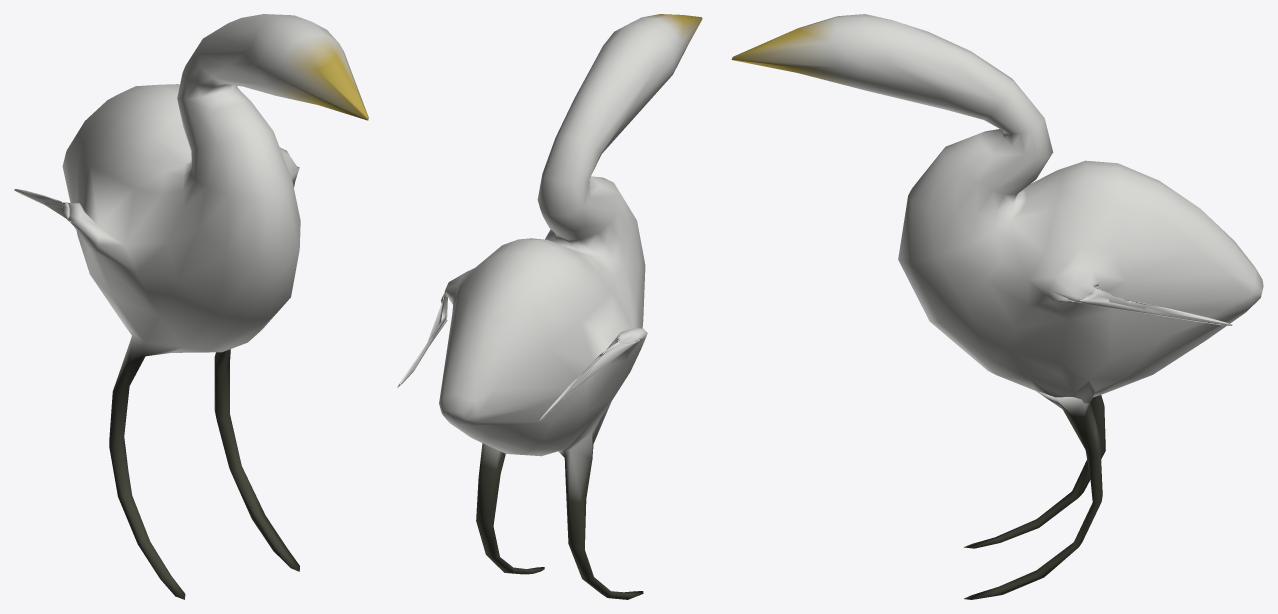
Rendered from cattle-egret-0.glb.
The picture shows the model from 3 angles, left to right: view 1: azimuth 30°, elevation 25°; view 2: azimuth 150°, elevation 25°; view 3: azimuth 270°, elevation 25°; orthographic projection. The views are drawn at different scales.
Parts seen in each view (by area): view 1: cattle-egret; view 2: cattle-egret; view 3: cattle-egret.
Part boxes in pixels (<box>): cattle-egret: <box>14,14,368,599</box>; cattle-egret: <box>397,14,702,599</box>; cattle-egret: <box>731,14,1263,599</box>.
Bounding box in the file's own units: 0.2226 × 0.5656 × 0.4916.
